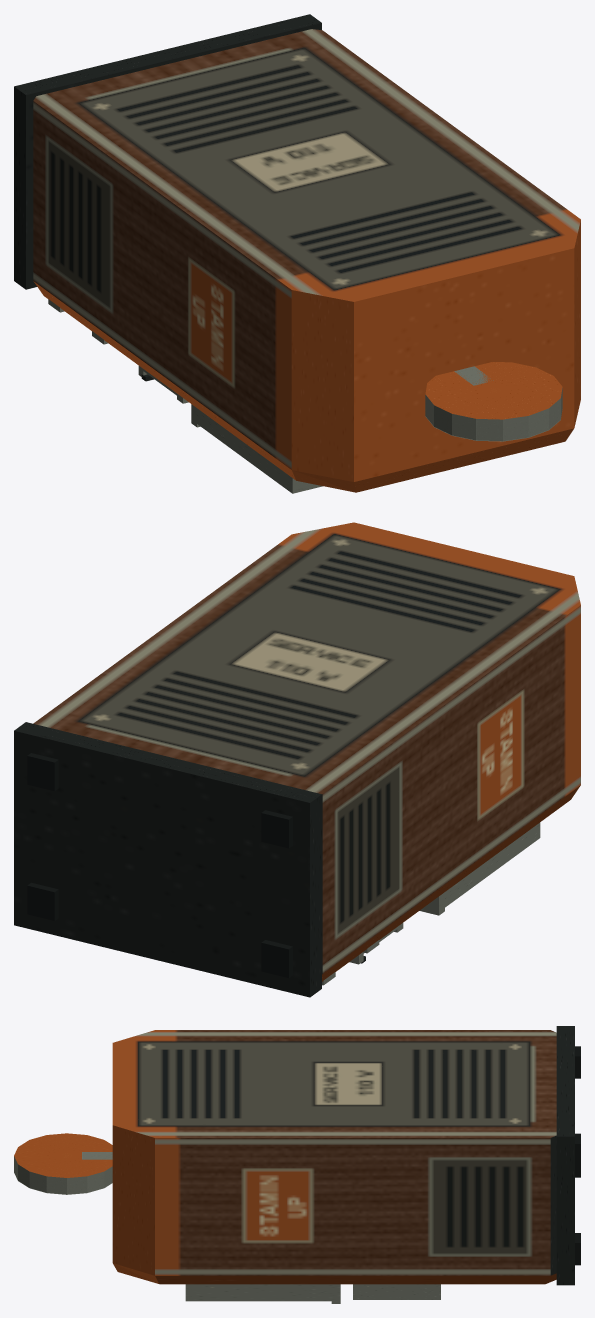
File: staminup.obj
The picture shows the model from 3 angles, top to bottom: view 1: azimuth 30°, elevation 25°; view 2: azimuth 150°, elevation 25°; view 3: azimuth 270°, elevation 25°; orthographic projection. The views are drawn at different scales.
Parts seen in each view (by area): view 1: cabinet_shell, rear_service_panel, round_perk_sign, base_plinth, cabinet_bevel, display_left_rail; view 2: rear_service_panel, base_plinth, cabinet_shell, rubber_foot, cabinet_bevel, display_left_rail; view 3: cabinet_shell, rear_service_panel, round_perk_sign, base_plinth, cabinet_bevel, display_right_rail, coin_module, rubber_foot.
Boxes of the visible parts, bbox=[...] form: cabinet_shell: bbox=[33, 101, 580, 481]; rear_service_panel: bbox=[33, 29, 580, 301]; round_perk_sign: bbox=[425, 362, 562, 441]; base_plinth: bbox=[14, 14, 321, 289]; cabinet_bevel: bbox=[33, 281, 573, 492]; display_left_rail: bbox=[191, 405, 302, 493]; rear_service_panel: bbox=[33, 522, 580, 793]; base_plinth: bbox=[14, 722, 321, 997]; cabinet_shell: bbox=[322, 605, 580, 974]; rubber_foot: bbox=[27, 753, 292, 978]; cabinet_bevel: bbox=[322, 785, 580, 981]; display_left_rail: bbox=[438, 822, 540, 907]; cabinet_shell: bbox=[112, 1125, 556, 1275]; rear_service_panel: bbox=[112, 1030, 556, 1137]; round_perk_sign: bbox=[14, 1133, 112, 1194]; base_plinth: bbox=[556, 1026, 574, 1285]; cabinet_bevel: bbox=[113, 1263, 556, 1284]; display_right_rail: bbox=[185, 1284, 340, 1301]; coin_module: bbox=[353, 1284, 440, 1299]; rubber_foot: bbox=[575, 1046, 580, 1265].
Bounding box in the file's own units: 43 × 32.7 × 93.2.
Materials: 4 (4 with a texture image).
